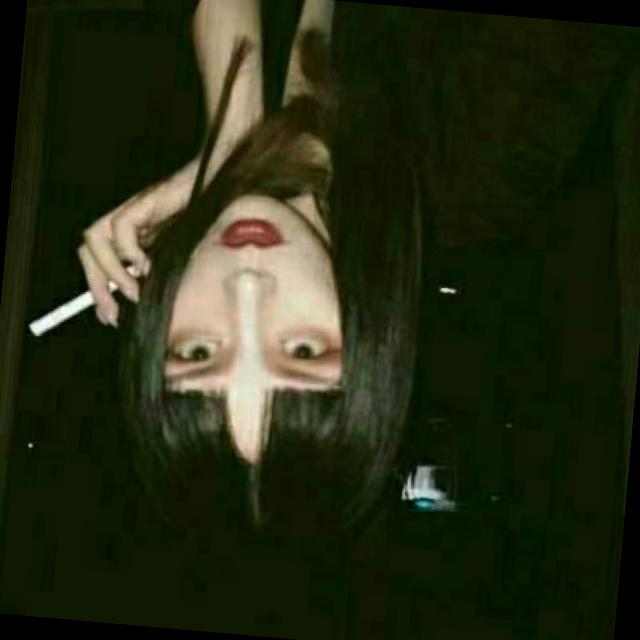cigarette: (28, 285, 97, 348)
